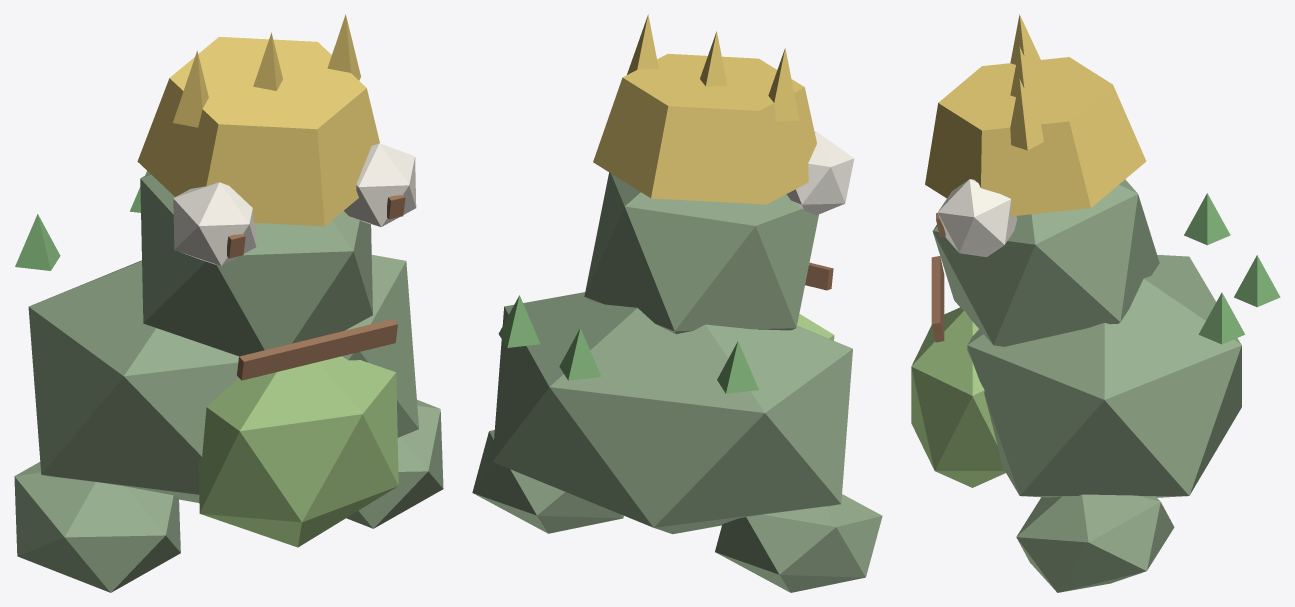
File: npcpose_toad_king_walk_04.glb
3 renders of one model, left to right at view 1: azimuth 30°, elevation 25°; view 2: azimuth 150°, elevation 25°; view 3: azimuth 270°, elevation 25°, orthographic. The views are drawn at different scales.
Parts seen in each view (by area): view 1: npcpose; view 2: npcpose; view 3: npcpose.
Part boxes in pixels (x1,y1,x2,y2): npcpose: (14, 14, 443, 592); npcpose: (472, 14, 882, 592); npcpose: (911, 14, 1280, 592).
Size of the model in its own units: 1.75 by 2.17 by 1.51.
